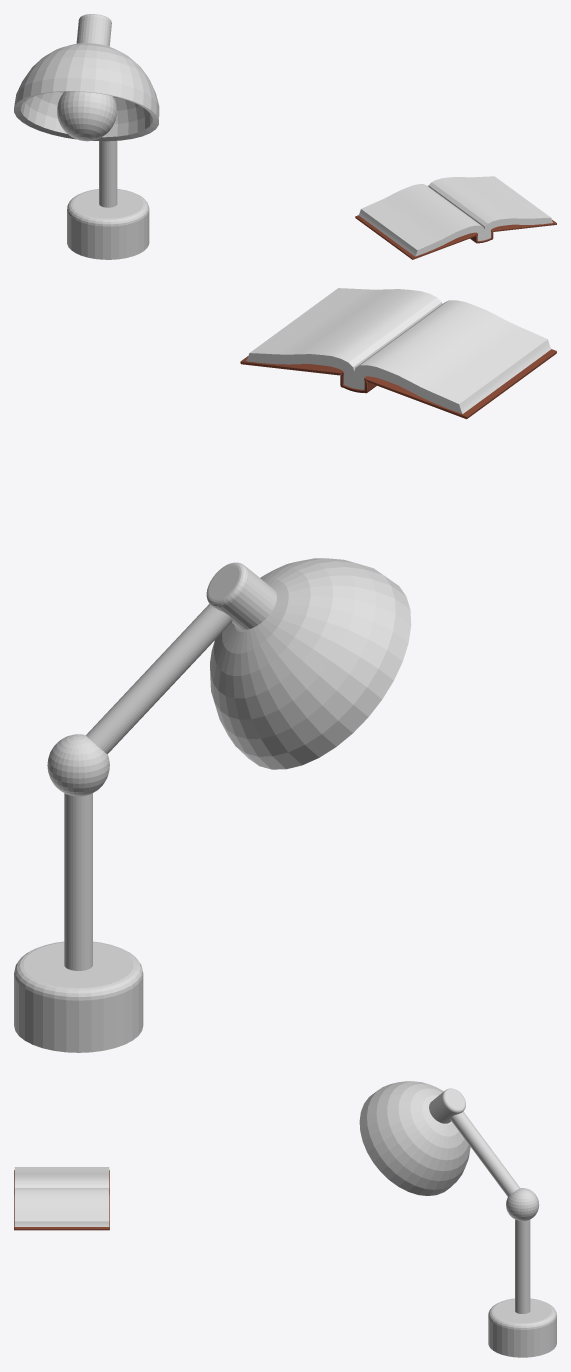
The picture shows the model from 3 angles, top to bottom: view 1: azimuth 30°, elevation 25°; view 2: azimuth 150°, elevation 25°; view 3: azimuth 270°, elevation 25°; orthographic projection. The views are drawn at different scales.
Visible parts, largest first — view 1: Cylinder.003, book cover and side, Cylinder.007; view 2: Cylinder.003, book cover and side; view 3: Cylinder.003, book cover and side.
Boxes of the visible parts, left/top/right/bottom form: Cylinder.003: left=14, top=14, right=159, bottom=259; book cover and side: left=355, top=176, right=556, bottom=259; Cylinder.007: left=57, top=91, right=116, bottom=141; Cylinder.003: left=14, top=558, right=411, bottom=1052; book cover and side: left=240, top=288, right=556, bottom=419; Cylinder.003: left=359, top=1081, right=556, bottom=1357; book cover and side: left=14, top=1167, right=109, bottom=1230.
Size of the model in its own units: 251 by 228 by 488.
